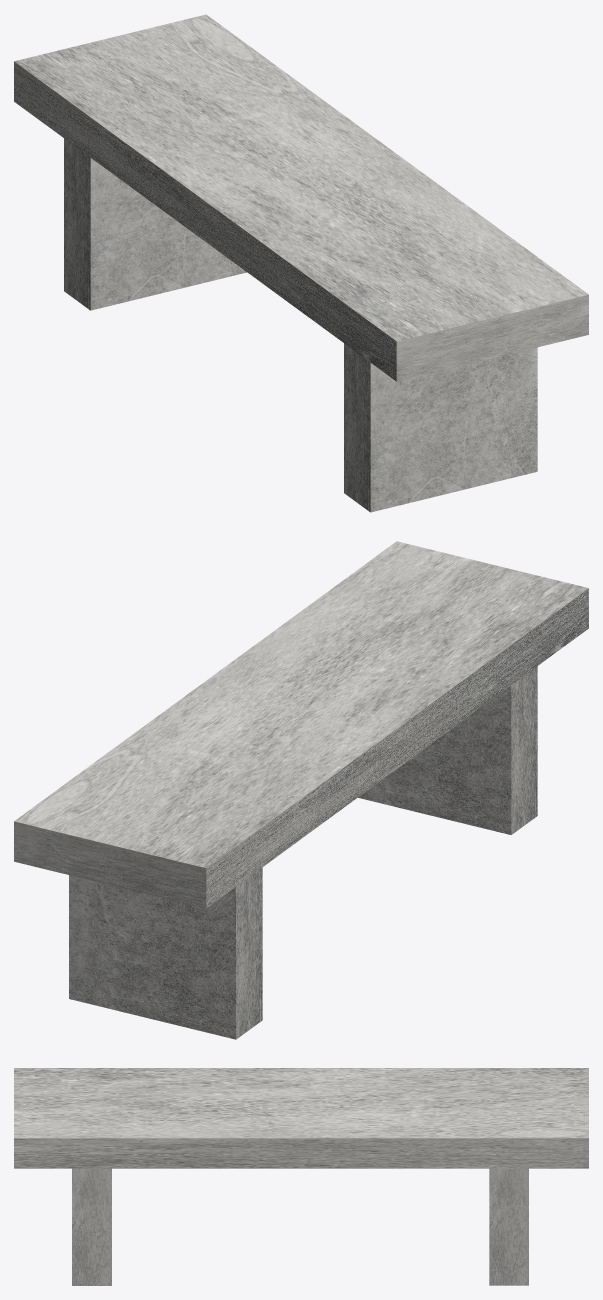
Rendered from Bancas.obj.
The picture shows the model from 3 angles, top to bottom: view 1: azimuth 30°, elevation 25°; view 2: azimuth 150°, elevation 25°; view 3: azimuth 270°, elevation 25°; orthographic projection. The views are drawn at different scales.
Visible parts, largest first — view 1: Cube, Cube.001, Cube.002; view 2: Cube, Cube.002, Cube.001; view 3: Cube, Cube.001, Cube.002.
Boxes of the visible parts, <box> form: Cube: <box>14,14,588,381</box>; Cube.001: <box>344,343,537,512</box>; Cube.002: <box>64,138,246,310</box>; Cube: <box>14,541,588,908</box>; Cube.002: <box>69,867,262,1039</box>; Cube.001: <box>358,666,537,834</box>; Cube: <box>14,1068,588,1168</box>; Cube.001: <box>72,1168,111,1285</box>; Cube.002: <box>489,1168,528,1285</box>.
Bounding box in the file's own units: 1.62 × 1.64 × 5.6.
